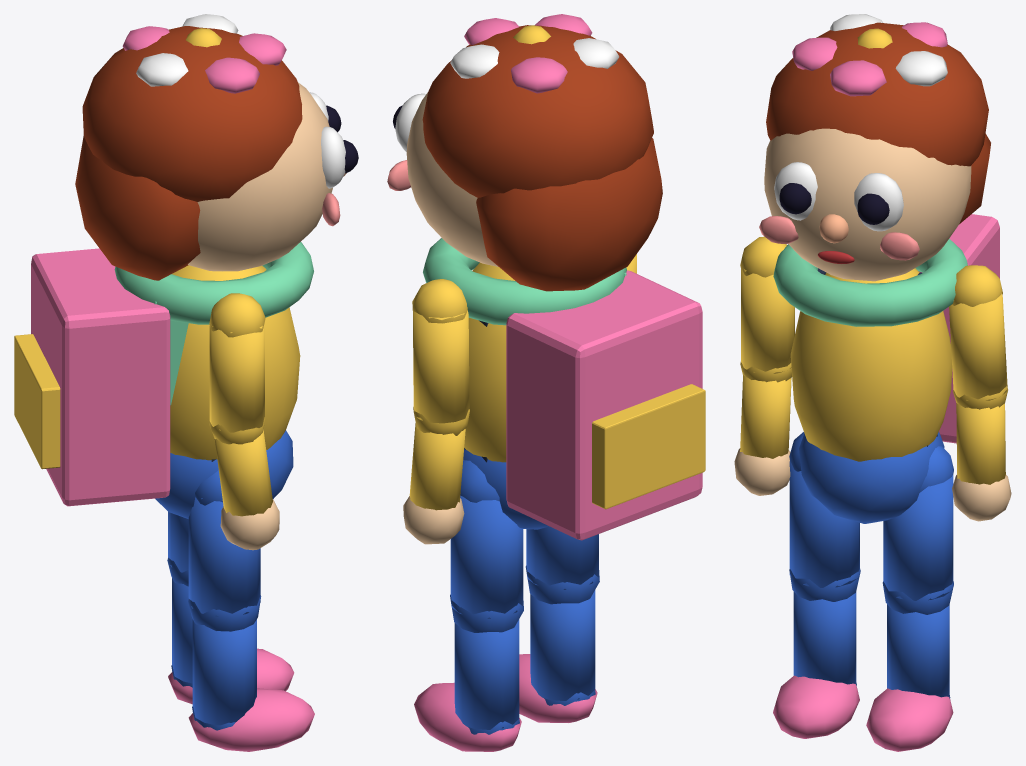
Rendered from hrdina_5_stoji.glb.
3 views of the same model, side by side, from view 1: azimuth 30°, elevation 25°; view 2: azimuth 150°, elevation 25°; view 3: azimuth 270°, elevation 25° (orthographic). The views are drawn at different scales.
Parts seen in each view (by area): view 1: Cube.001, Sphere.011, Sphere.002, Sphere.012, Sphere, Torus, Cylinder.004, Cylinder.005, Cylinder, Cube.002, Sphere.031, Cylinder.001 (+16 smaller); view 2: Cube.001, Sphere.011, Sphere.012, Cube.002, Cylinder.006, Cylinder.005, Cylinder.007, Torus, Cylinder.002, Sphere, Sphere.002, Cylinder.003 (+17 smaller); view 3: Sphere, Sphere.011, Sphere.002, Torus, Sphere.001, Cylinder.006, Cylinder.004, Cylinder.005, Cylinder.007, Cylinder.002, Cylinder, Sphere.036 (+27 smaller).
Part boxes in pixels (x1=…): Cube.001: x1=31, y1=248, x2=170, y2=506; Sphere.011: x1=82, y1=26, x2=302, y2=201; Sphere.002: x1=188, y1=82, x2=332, y2=271; Sphere.012: x1=75, y1=135, x2=200, y2=280; Sphere: x1=170, y1=265, x2=300, y2=460; Torus: x1=114, y1=242, x2=313, y2=324; Cylinder.004: x1=188, y1=497, x2=260, y2=616; Cylinder.005: x1=192, y1=619, x2=256, y2=725; Cylinder: x1=209, y1=321, x2=264, y2=432; Cube.002: x1=14, y1=334, x2=60, y2=469; Sphere.031: x1=188, y1=688, x2=314, y2=751; Cylinder.001: x1=214, y1=429, x2=272, y2=516; Cube.001: x1=506, y1=270, x2=702, y2=540; Sphere.011: x1=422, y1=25, x2=653, y2=197; Sphere.012: x1=476, y1=138, x2=662, y2=291; Cube.002: x1=592, y1=384, x2=705, y2=509; Cylinder.006: x1=450, y1=495, x2=523, y2=618; Cylinder.005: x1=530, y1=590, x2=595, y2=700; Cylinder.007: x1=454, y1=619, x2=519, y2=729; Torus: x1=423, y1=238, x2=626, y2=325; Cylinder.002: x1=412, y1=307, x2=469, y2=423; Sphere: x1=464, y1=262, x2=514, y2=462; Sphere.002: x1=406, y1=92, x2=498, y2=266; Cylinder.003: x1=409, y1=423, x2=465, y2=510; Sphere: x1=790, y1=268, x2=952, y2=461; Sphere.011: x1=766, y1=22, x2=988, y2=166; Sphere.002: x1=764, y1=128, x2=971, y2=281; Torus: x1=773, y1=238, x2=967, y2=326; Sphere.001: x1=799, y1=431, x2=944, y2=523; Cylinder.006: x1=883, y1=475, x2=953, y2=600; Cylinder.004: x1=789, y1=461, x2=859, y2=587; Cylinder.005: x1=793, y1=591, x2=856, y2=684; Cylinder.007: x1=887, y1=604, x2=949, y2=697; Cylinder.002: x1=949, y1=293, x2=1007, y2=400; Cylinder: x1=741, y1=268, x2=794, y2=373; Sphere.036: x1=866, y1=688, x2=953, y2=751.
Bounding box in the file's own units: 0.5769 × 1.28 × 0.4672.
